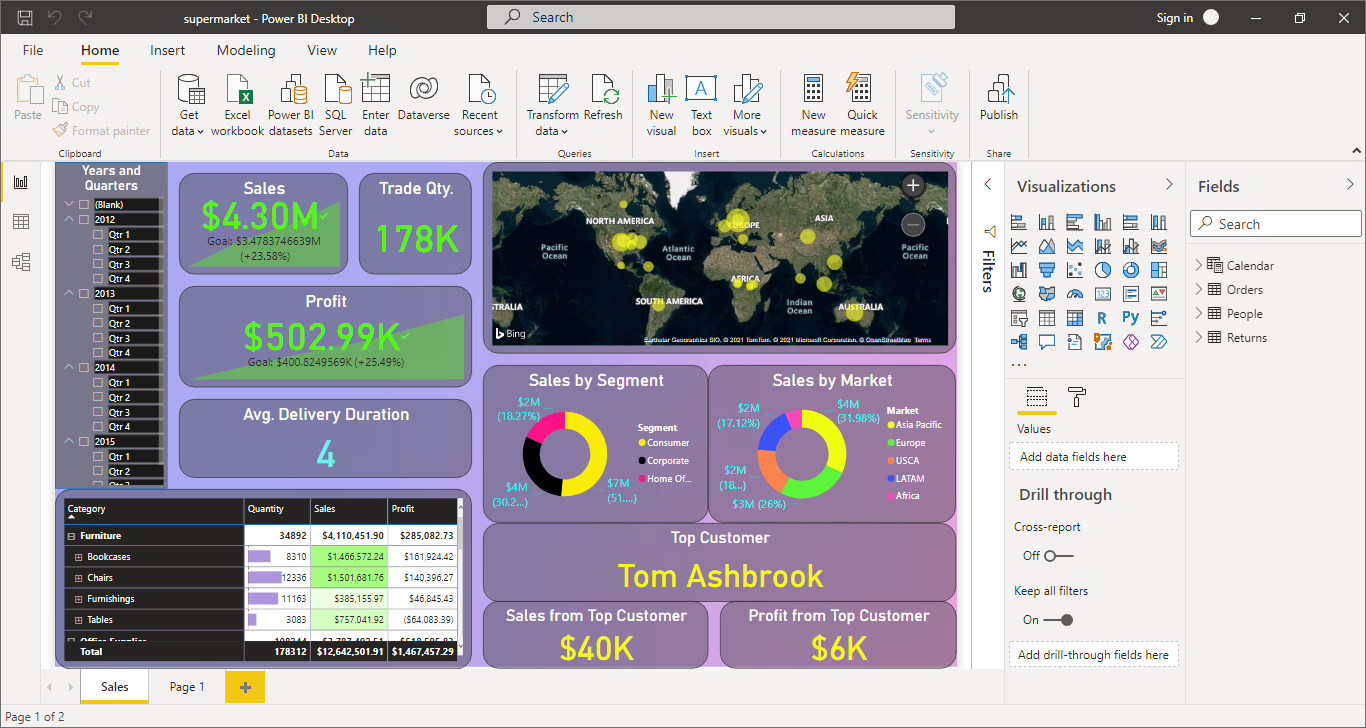

The page's visual inventory and layout, read from the dashboard file:
{"tool":"powerbi","page":{"name":"Sales","canvas":[1280,720],"ordinal":0},"visuals":[{"type":"shape","box":[0,0,160,464],"z":0},{"type":"slicer","title":"Years and Quarters","fields":{"Values":["Calendar.Date Hierarchy.Year","Calendar.Date Hierarchy.Quarter"]},"box":[0,0,160,464],"z":1000},{"type":"kpi","title":"Sales","fields":{"Indicator":["Orders.Sales"],"TrendLine":["Calendar.Quarter"],"Goal":["Orders.prev qtrsales"]},"box":[176,16,240,144],"z":2000},{"type":"kpi","title":"Profit","fields":{"Indicator":["Orders.Profit"],"TrendLine":["Calendar.Quarter"],"Goal":["Orders.prev qtrprofit"]},"box":[176,176,416,144],"z":3000},{"type":"card","title":"Trade Qty.","fields":{"Values":["Orders.Quantity"]},"box":[432,16,160,144],"z":4000},{"type":"map","title":"Sales","fields":{"Size":["Orders.Sales"],"Category":["Orders.Region"]},"box":[608,0,672,272],"z":5000},{"type":"pivotTable","title":"Trade Qty.","fields":{"Values":["Orders.Quantity","Orders.Sales","Orders.Profit"],"Rows":["Orders.Category Hierarchy.Category","Orders.Category Hierarchy.Sub-Category","Orders.Category Hierarchy.Product Name"]},"box":[0,464,592,256],"z":6000},{"type":"donutChart","title":"Sales by Segment","fields":{"Category":["Orders.Segment"],"Y":["Orders.Sales"]},"box":[608,288,320,224],"z":7000},{"type":"donutChart","title":"Sales by Market","fields":{"Y":["Orders.Sales"],"Category":["Orders.Market"]},"box":[928,288,352,224],"z":8000},{"type":"card","title":"Top Customer","fields":{"Values":["Orders.Customer Name"]},"box":[608,512,672,112],"z":9000},{"type":"card","title":"Sales from Top Customer","fields":{"Values":["Orders.Sales"]},"box":[608,624,320,96],"z":10000},{"type":"card","title":"Profit from Top Customer","fields":{"Values":["Orders.Profit"]},"box":[944,624,336,96],"z":11000},{"type":"card","title":"Avg. Delivery Duration","fields":{"Values":["Orders.Delivery days"]},"box":[176,336,416,112],"z":11001}]}

Visuals, with their boxes on the page's 1280x720 design canvas (x1, y1, x2, y2). These are canvas units, not pixel positions in the 1366x728 screenshot, which may show the page scaled, cropped or inside an application window:
shape: BBox(0, 0, 160, 464)
"Years and Quarters" slicer: BBox(0, 0, 160, 464)
"Sales" kpi: BBox(176, 16, 416, 160)
"Profit" kpi: BBox(176, 176, 592, 320)
"Trade Qty." card: BBox(432, 16, 592, 160)
"Sales" map: BBox(608, 0, 1280, 272)
"Trade Qty." pivotTable: BBox(0, 464, 592, 720)
"Sales by Segment" donutChart: BBox(608, 288, 928, 512)
"Sales by Market" donutChart: BBox(928, 288, 1280, 512)
"Top Customer" card: BBox(608, 512, 1280, 624)
"Sales from Top Customer" card: BBox(608, 624, 928, 720)
"Profit from Top Customer" card: BBox(944, 624, 1280, 720)
"Avg. Delivery Duration" card: BBox(176, 336, 592, 448)
